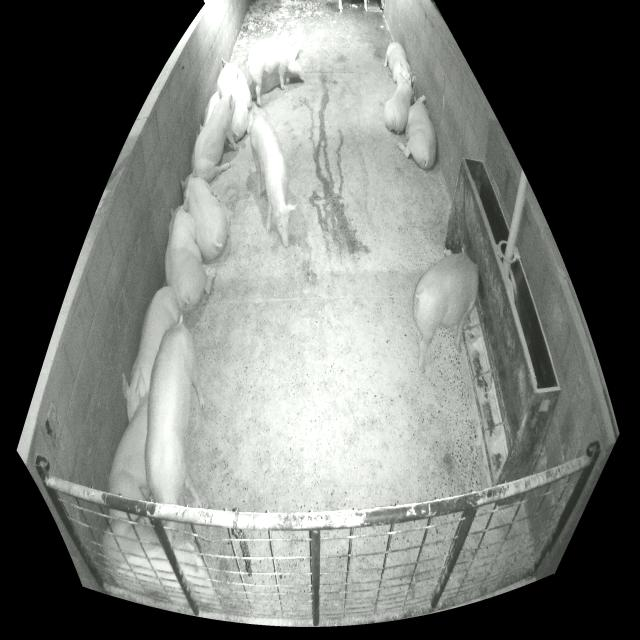pig: (145, 315, 205, 504), (102, 519, 213, 609), (122, 287, 180, 421), (414, 253, 478, 373), (250, 117, 297, 247), (107, 392, 151, 500), (191, 85, 238, 183), (165, 199, 205, 311), (182, 169, 228, 260), (247, 39, 304, 107), (216, 59, 253, 141), (397, 95, 436, 169), (385, 75, 415, 134), (384, 42, 411, 86), (200, 92, 219, 131)
